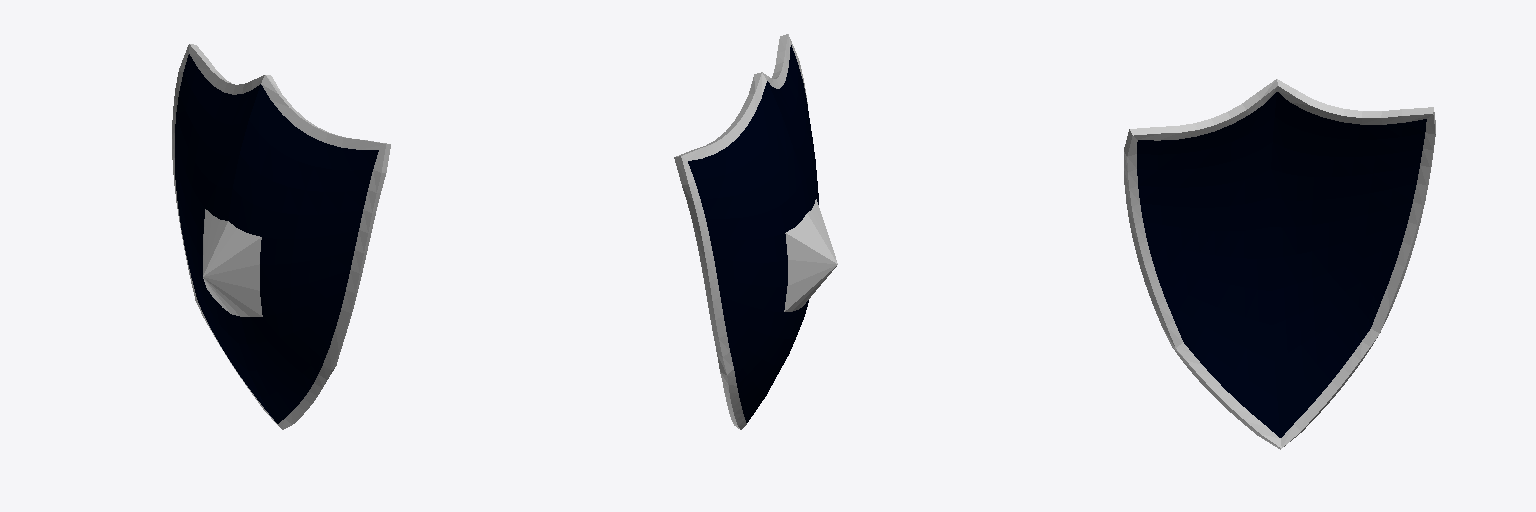
Rendered from shield.obj.
The picture shows the model from 3 angles: view 1: azimuth 30°, elevation 25°; view 2: azimuth 150°, elevation 25°; view 3: azimuth 270°, elevation 25°; orthographic projection.
Visible parts, largest first — view 1: Shield_CUSurfPatch; view 2: Shield_CUSurfPatch; view 3: Shield_CUSurfPatch.
Boxes of the visible parts, x1,y1,x2,y2 form: Shield_CUSurfPatch: [172, 44, 390, 429]; Shield_CUSurfPatch: [674, 34, 837, 429]; Shield_CUSurfPatch: [1124, 79, 1435, 449].
Bounding box in the file's own units: 0.2187 × 0.6123 × 0.4799.